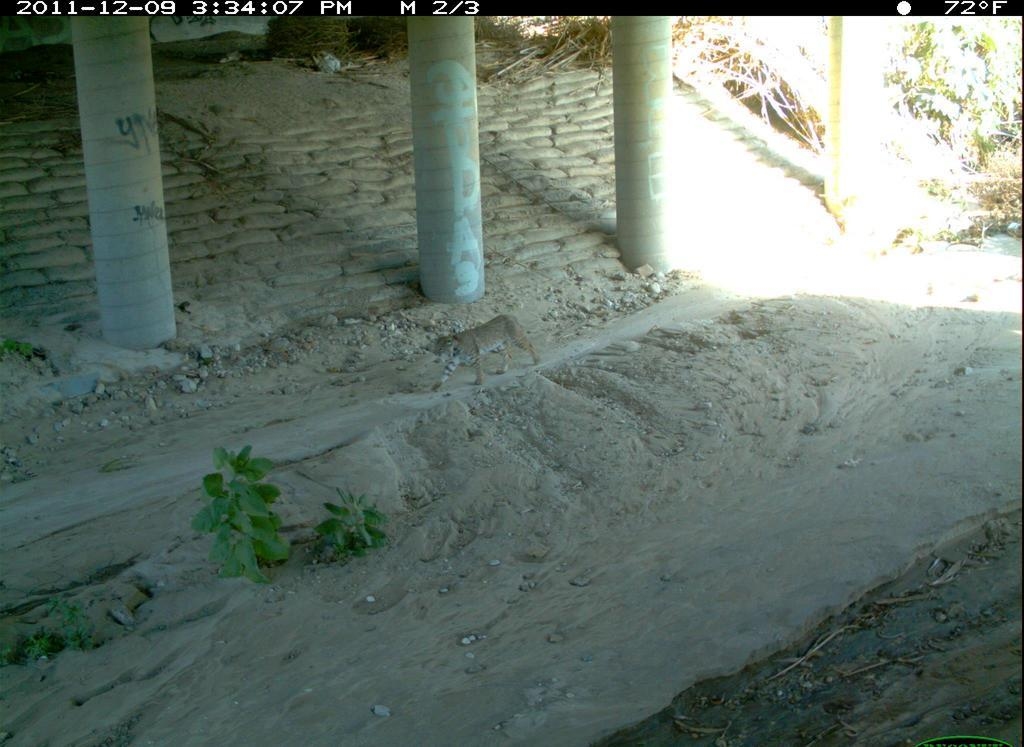bobcat: (848, 618, 1024, 747)
